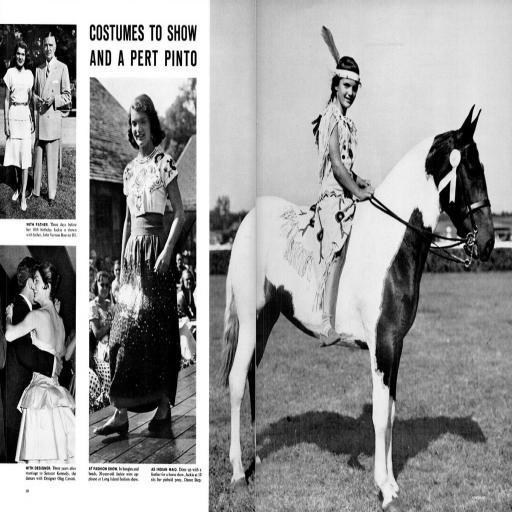horse: (217, 100, 495, 512)
